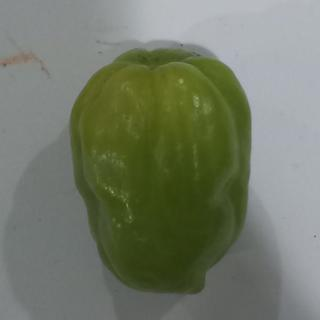Grade-A: (62, 40, 265, 295)
